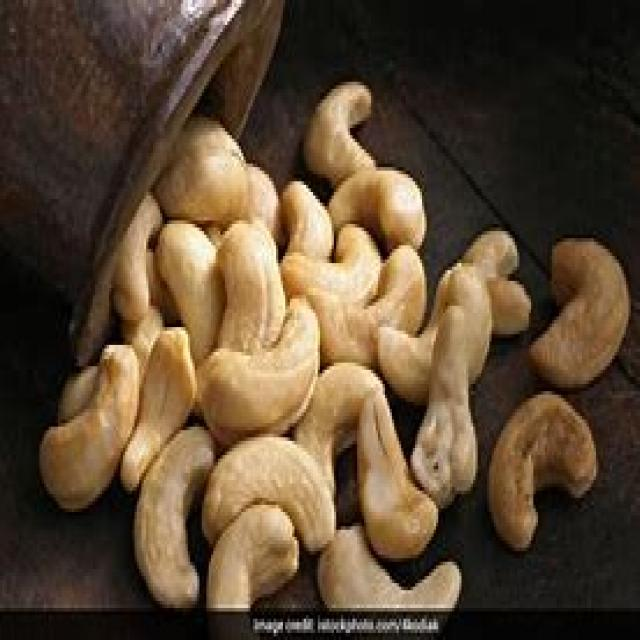Cashew: (494, 378, 593, 564), (208, 345, 341, 474), (327, 519, 464, 640), (354, 396, 456, 544), (423, 319, 501, 512), (135, 463, 212, 631), (534, 210, 616, 365), (208, 519, 324, 628), (46, 356, 124, 510), (210, 425, 346, 504), (162, 226, 228, 375), (306, 53, 386, 174), (225, 222, 292, 353), (135, 326, 182, 458), (345, 166, 437, 233), (366, 251, 423, 333)
